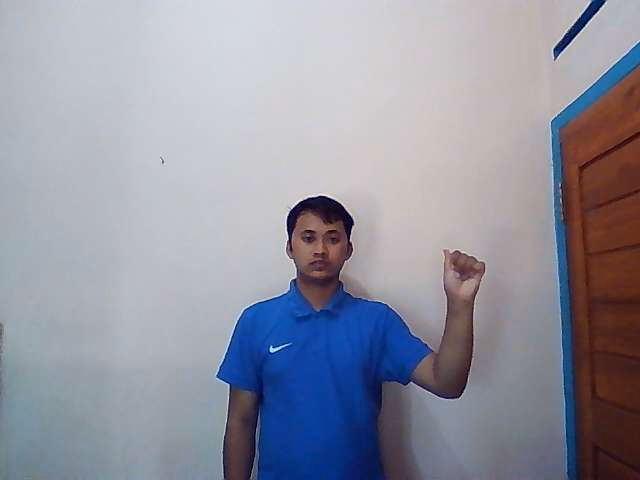A: (441, 248, 485, 300)
